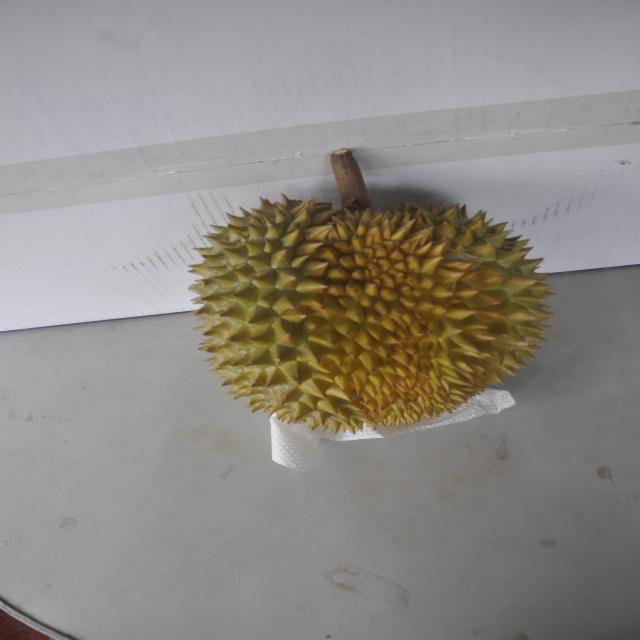mature: (184, 182, 552, 434)
